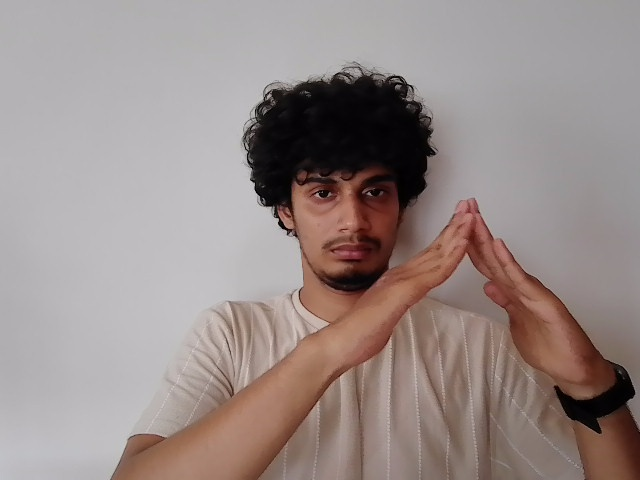home: (309, 194, 608, 389)
